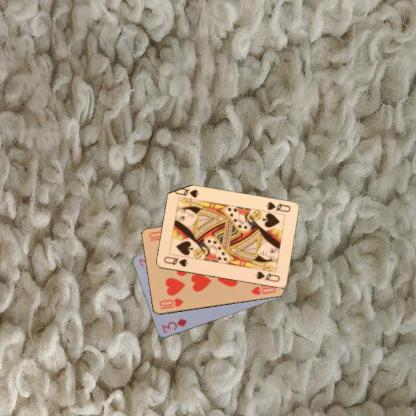10h: (157, 296, 184, 310)
3d: (159, 316, 188, 335)
Qs: (263, 200, 292, 214), (161, 254, 189, 268)
